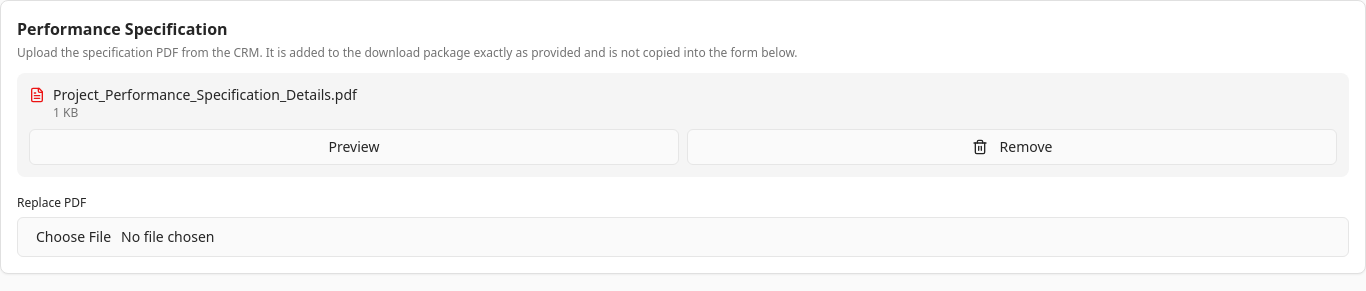
Test: SpecDocumentUpload › attaches a valid PDF without reading it into the form, and can remove it
Earlier steps of the test are not shown.
Expected: the text with test id "spec-document-name" reads "Project_Performance_Specification_Details.pdf", [53,85,357,104]
Click the button "Remove": (1012, 147) [687,129,1337,165]
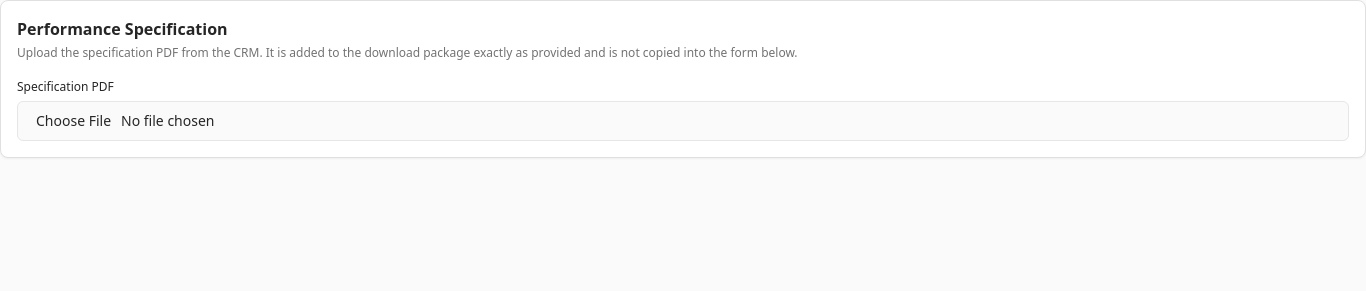
Expected: the text with test id "spec-document-name" is gone
